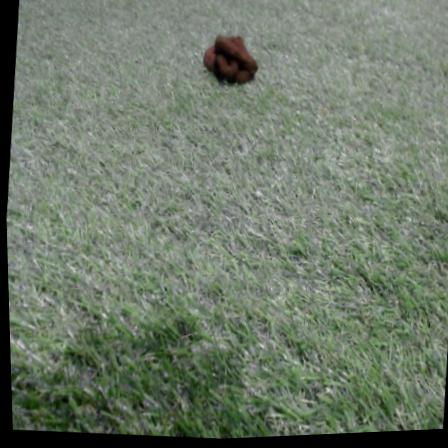dog-poop: (195, 24, 262, 91)
